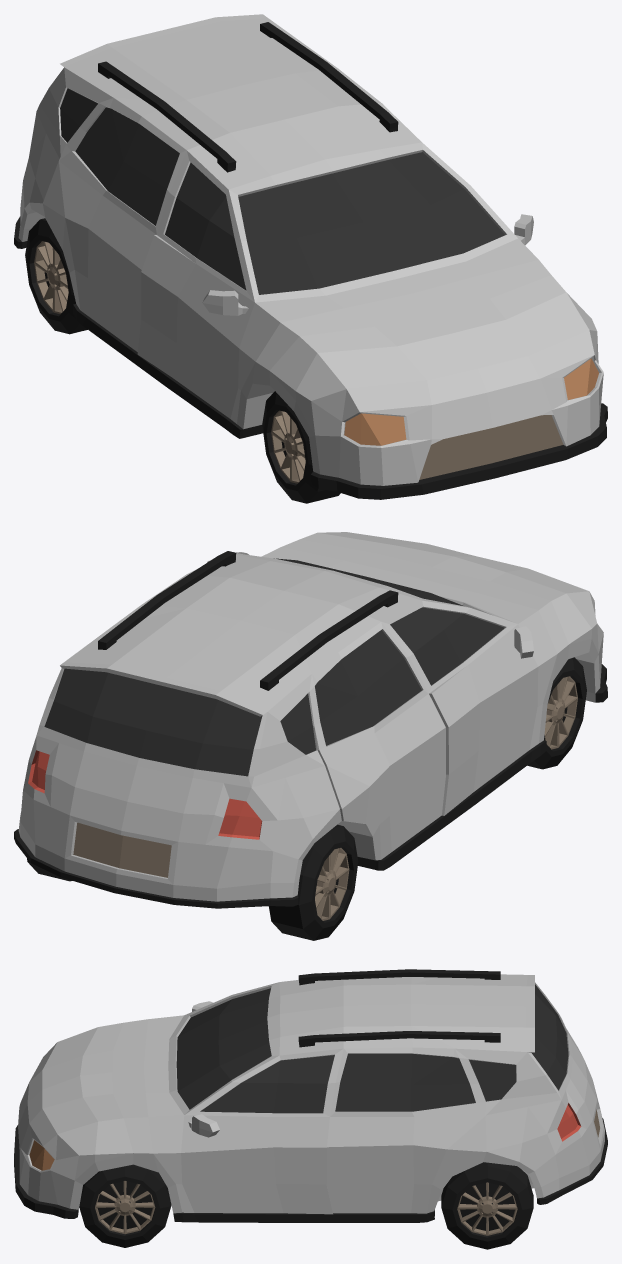
File: car-suv.glb
The picture shows the model from 3 angles, top to bottom: view 1: azimuth 30°, elevation 25°; view 2: azimuth 150°, elevation 25°; view 3: azimuth 270°, elevation 25°; orthographic projection. The views are drawn at different scales.
Visible parts, largest first — view 1: SUV_Cube; view 2: SUV_Cube; view 3: SUV_Cube.
Part boxes in pixels (<box>): SUV_Cube: <box>14,14,607,503</box>; SUV_Cube: <box>14,532,607,940</box>; SUV_Cube: <box>14,969,607,1249</box>.
Bounding box in the file's own units: 2.11 × 1.53 × 4.21.
1 material, 1 textured.
